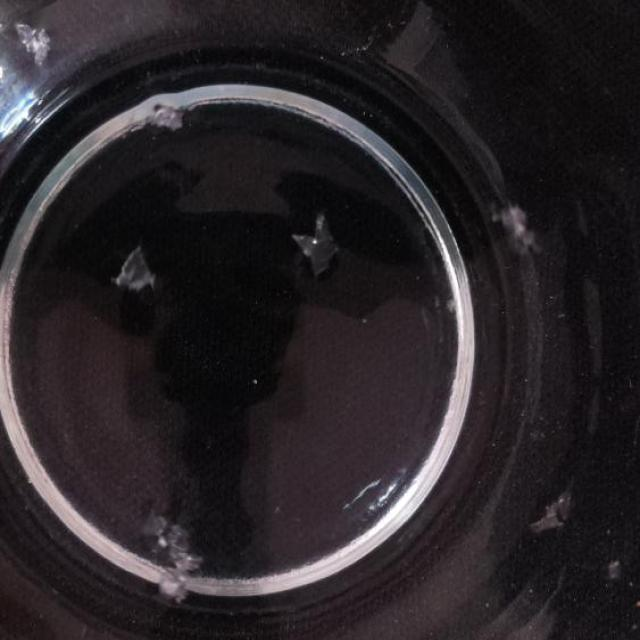fiber: (144, 500, 210, 620), (104, 235, 178, 300), (489, 191, 548, 269), (4, 11, 62, 70), (290, 214, 342, 276), (528, 482, 586, 536), (142, 88, 189, 136)
